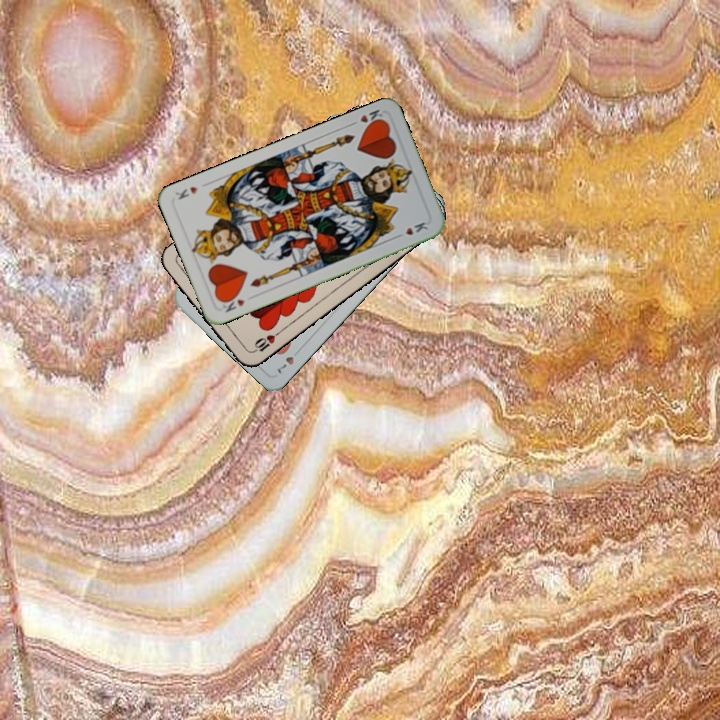H10: (247, 327, 283, 356)
H7: (273, 344, 304, 377)
HK: (356, 105, 386, 130), (218, 291, 248, 315)
